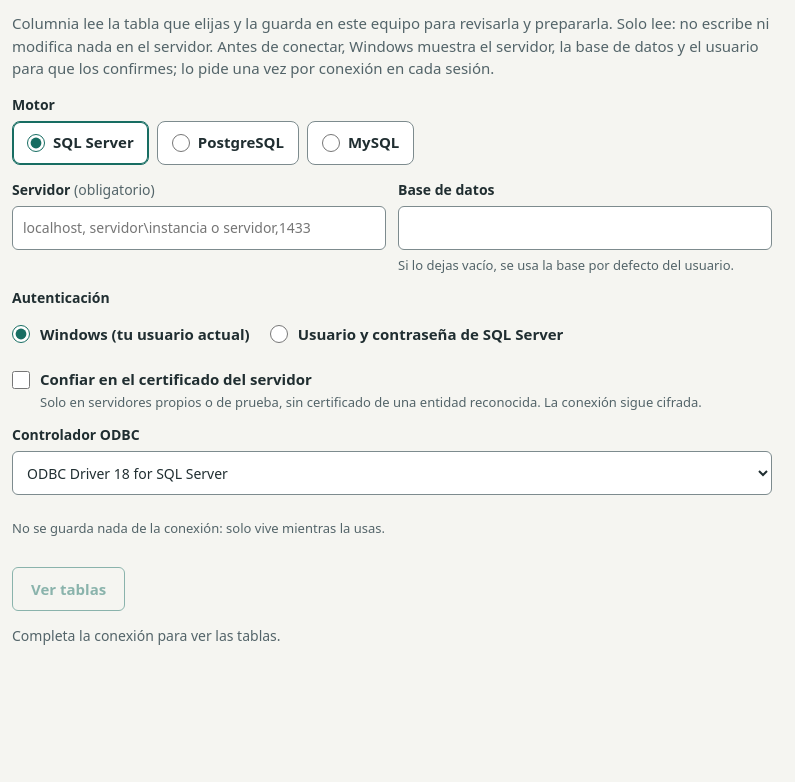
Test: DatabaseImportPanel › muestra el error del servidor cerca de la acción y no carga nada
The image size is (795, 782).
Expected: the dropdown labelled "Controlador ODBC" shows "ODBC Driver 18 for SQL Server", [12, 451, 772, 495]
Step 1. Type "localhost" into the field labelled "Servidor" → {"x": 199, "y": 228}, box [12, 206, 386, 250]
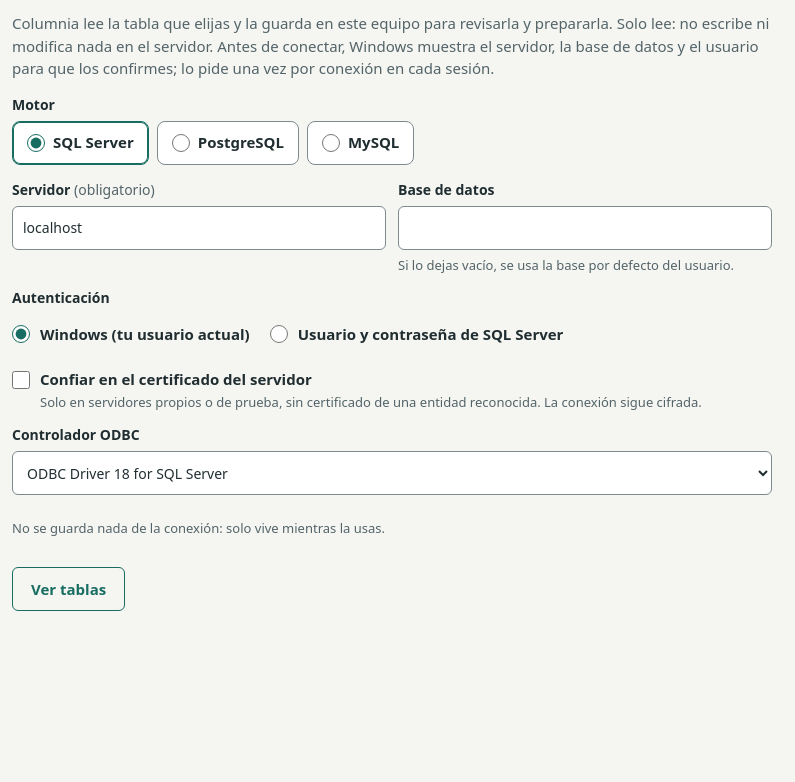
Step 2. Type "VentasRetail" into the field labelled "Base de datos" → {"x": 585, "y": 228}, box [398, 206, 772, 250]
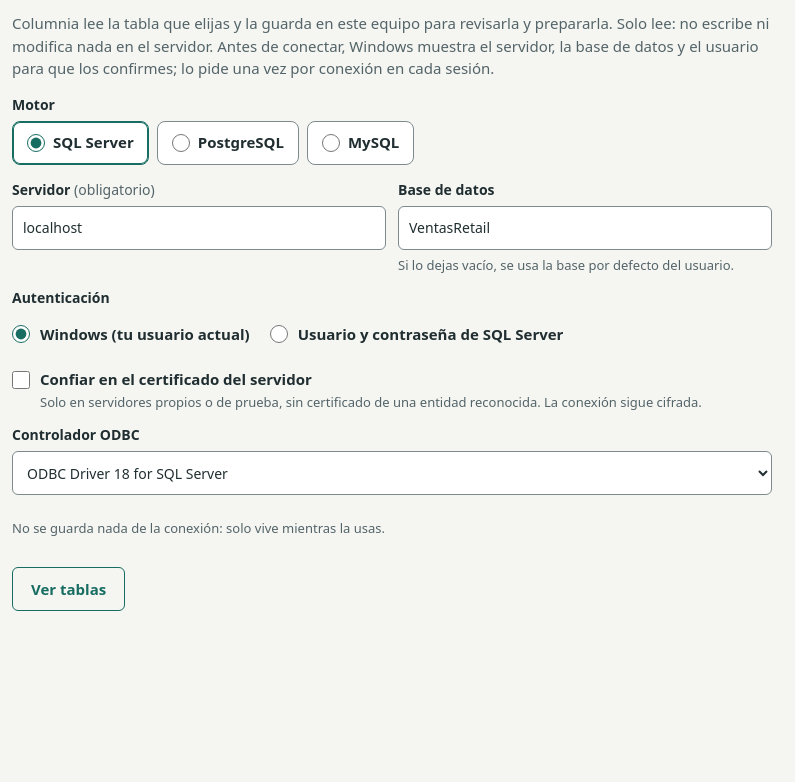
Step 3. Click the button "Ver tablas" → {"x": 69, "y": 589}, box [12, 566, 125, 611]
(page scrolled)
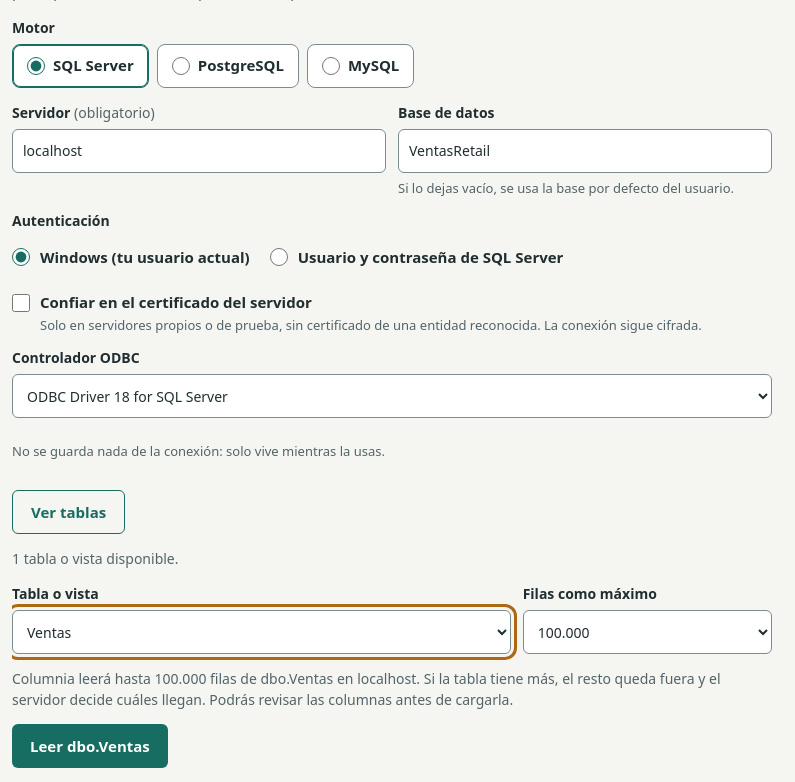
Step 4. Click the button "Leer dbo.Ventas" → {"x": 90, "y": 746}, box [12, 724, 168, 768]
(page scrolled)
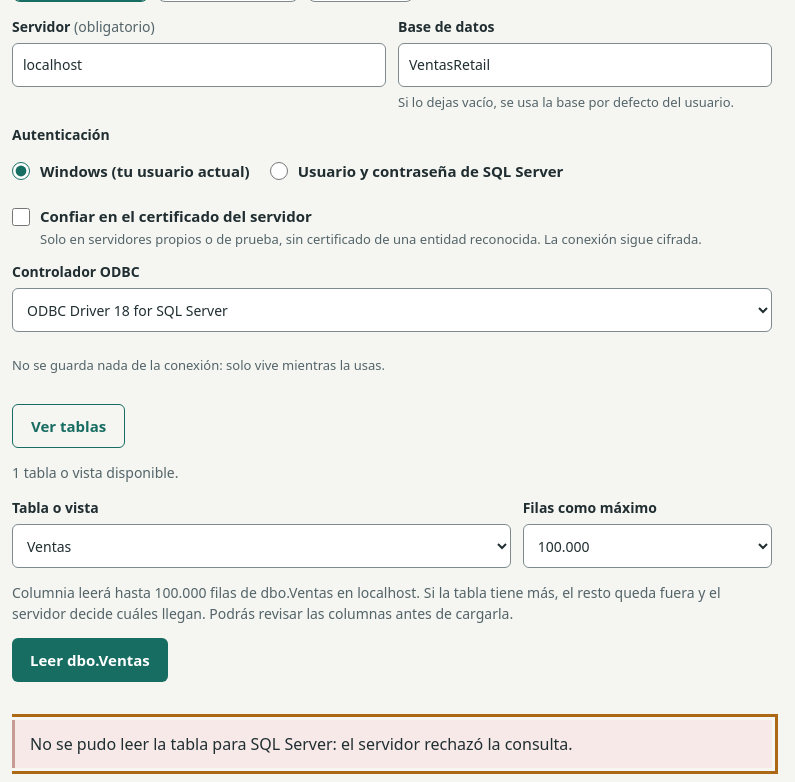
Expected: the message "No se pudo leer la tabla para SQL Server: el servidor rechazó la consulta." is shown, [12, 720, 772, 768]
